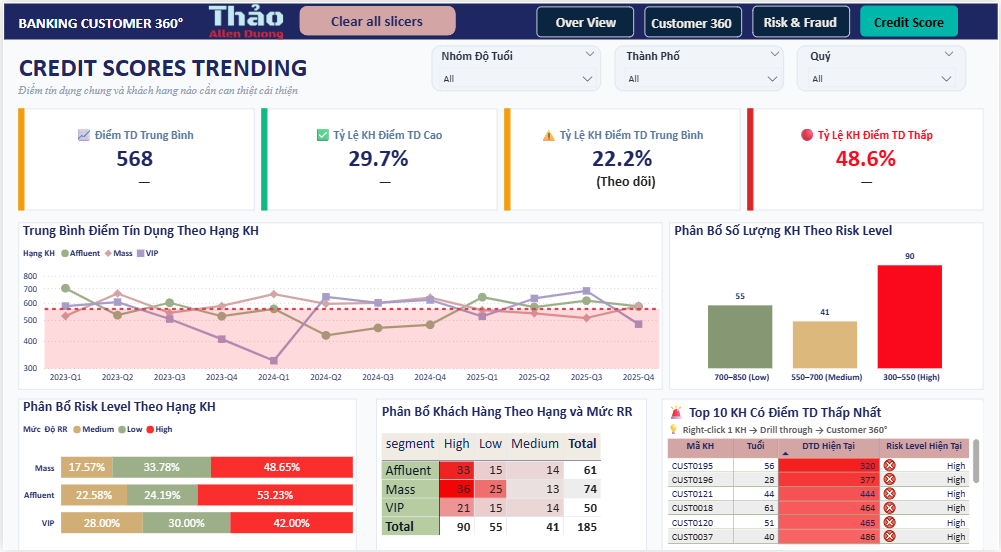

The dashboard page shown, as its layout file describes it:
{"tool":"powerbi","page":{"name":"CREDIT SCORE TREND","canvas":[1329,731],"ordinal":3},"visuals":[{"type":"group","id":"g1","title":"Clear all Slicer","box":[395.7,5.7,208.6,41.4],"z":0},{"type":"shape","box":[395.7,5.7,208.9,39.9],"z":0,"group":"g1"},{"type":"cardVisual","fields":{"Data":["_measure.TB_DTD","_measure.%_KH_DTD_cao","_measure.%_KH_DTD_TB","_measure.%_KH_DTD_thap"]},"box":[0,151.4,1328.6,91.6],"z":0,"group":"g2"},{"type":"pivotTable","fields":{"Rows":["dim_customers.segment"],"Columns":["fact_credit_scores.risk_level"],"Values":["_measure.SL_KH_co_DTD"]},"box":[500,570.2,352.7,157.5],"z":0,"group":"g3"},{"type":"lineChart","title":"Trung Bình Điểm Tín Dụng Theo Hạng KH","fields":{"Category":["fact_credit_scores.period_label"],"Series":["dim_customers.segment"],"Y":["_measure.TB_DTD"]},"box":[21.2,293.1,858.8,223.8],"z":1000},{"type":"textbox","box":[500,530,354,36],"z":1000,"group":"g3"},{"type":"hundredPercentStackedBarChart","title":"Phân Bổ Risk Level Theo Hạng KH ","fields":{"Category":["dim_customers.segment"],"Y":["_measure.SL_KH_co_DTD"],"Series":["fact_credit_scores.risk_level"]},"box":[21.4,528.6,450,201.4],"z":2000},{"type":"group","id":"g2","title":"Group 1","box":[0,151.4,1328.6,131.4],"z":3000},{"type":"clusteredColumnChart","title":"Phân Bổ Số Lượng KH Theo Risk Level","fields":{"Y":["_measure.SL_KH_co_DTD"],"Category":["fact_credit_scores.score_bin"]},"box":[890,292.9,417.1,224.3],"z":4000},{"type":"slicer","fields":{"Values":["fact_credit_scores.period_label"]},"box":[1062.9,57.1,217.1,57.1],"z":5000},{"type":"cardVisual","fields":{"Data":["_measure.TB_DTD_QoQ_format","_measure.%_KH_DTD_cao_QoQ_format","_measure.%_KH_DTD_TB_QoQ_format","_measure.%_KH_DTD_thap_QoQ_format"]},"box":[14.2,190.8,1313.9,92],"z":5000,"group":"g2"},{"type":"slicer","fields":{"Values":["dim_customers.city"]},"box":[818.6,57.1,230,57.1],"z":6000},{"type":"actionButton","box":[1142,4.7,132.7,43.3],"z":7000},{"type":"actionButton","box":[398.7,5.9,200.3,40.3],"z":7000,"group":"g1"},{"type":"actionButton","box":[854,8.7,129.3,40.7],"z":8000},{"type":"actionButton","box":[998,7.3,129.3,40.7],"z":9000},{"type":"actionButton","box":[712,6.7,131.3,42],"z":10000},{"type":"slicer","fields":{"Values":["dim_customers.age_group"]},"box":[571.4,57.1,230,57.1],"z":11000},{"type":"group","id":"g3","title":"Group 1","box":[500,530,352.9,197.1],"z":12000},{"type":"tableEx","title":"🚨 Top 10 KH Có Điểm TD Thấp Nhất","fields":{"Values":["dim_customers.customer_id","dim_customers.age","_measure.DTD_moi_nhat_v2","fact_credit_scores.Risk_level_moi_nhat"]},"box":[880,532.9,427.1,194.3],"z":13000}]}

Visuals, with their boxes in screenshot pixels (x1, y1, x2, y2), scaled from the page's 1329x731 canvas onto the 1001x552 screenshot:
"Clear all Slicer" group: region(298, 4, 455, 36)
shape: region(298, 4, 455, 34)
cardVisual - _measure.TB_DTD x _measure.%_KH_DTD_cao: region(0, 114, 1000, 183)
pivotTable - dim_customers.segment x fact_credit_scores.risk_level: region(377, 431, 642, 550)
"Trung Bình Điểm Tín Dụng Theo Hạng KH" lineChart: region(16, 221, 663, 390)
textbox: region(377, 400, 643, 427)
"Phân Bổ Risk Level Theo Hạng KH " hundredPercentStackedBarChart: region(16, 399, 355, 551)
"Group 1" group: region(0, 114, 1000, 214)
"Phân Bổ Số Lượng KH Theo Risk Level" clusteredColumnChart: region(670, 221, 985, 391)
slicer - fact_credit_scores.period_label: region(801, 43, 964, 86)
cardVisual - _measure.TB_DTD_QoQ_format x _measure.%_KH_DTD_cao_QoQ_format: region(11, 144, 1000, 214)
slicer - dim_customers.city: region(617, 43, 790, 86)
actionButton: region(860, 4, 960, 36)
actionButton: region(300, 4, 451, 35)
actionButton: region(643, 7, 741, 37)
actionButton: region(752, 6, 849, 36)
actionButton: region(536, 5, 635, 37)
slicer - dim_customers.age_group: region(430, 43, 604, 86)
"Group 1" group: region(377, 400, 642, 549)
"🚨 Top 10 KH Có Điểm TD Thấp Nhất" tableEx: region(663, 402, 985, 549)
